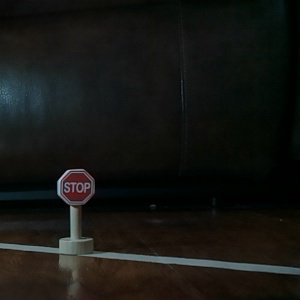stop sign: (54, 166, 97, 257)
